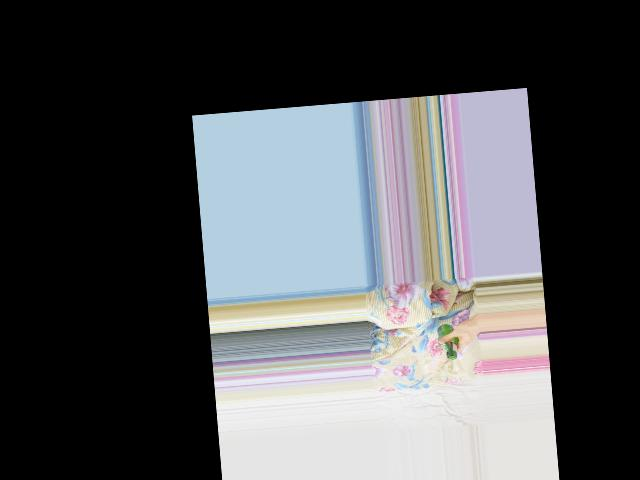beer: (437, 323, 460, 359)
